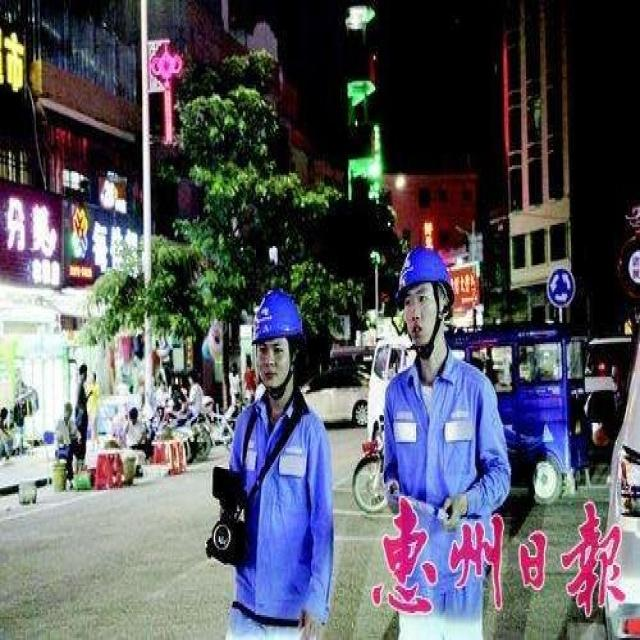helmet: (395, 329, 453, 483), (251, 384, 300, 528)
